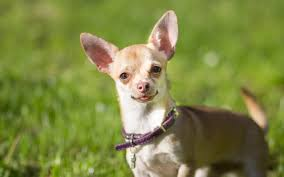chihuahua: (79, 9, 270, 177)
